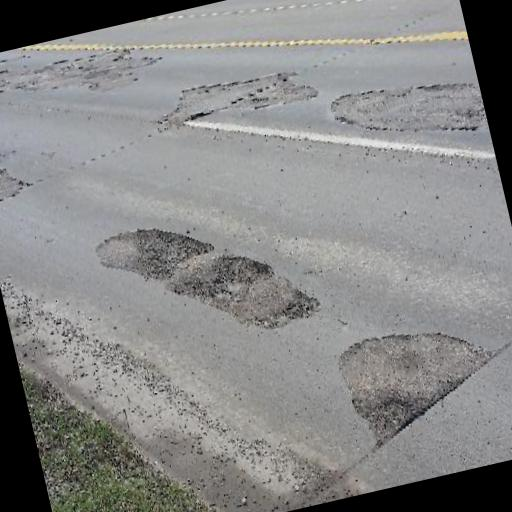pothole: (170, 246, 276, 306), (130, 210, 214, 276), (358, 389, 425, 444)
